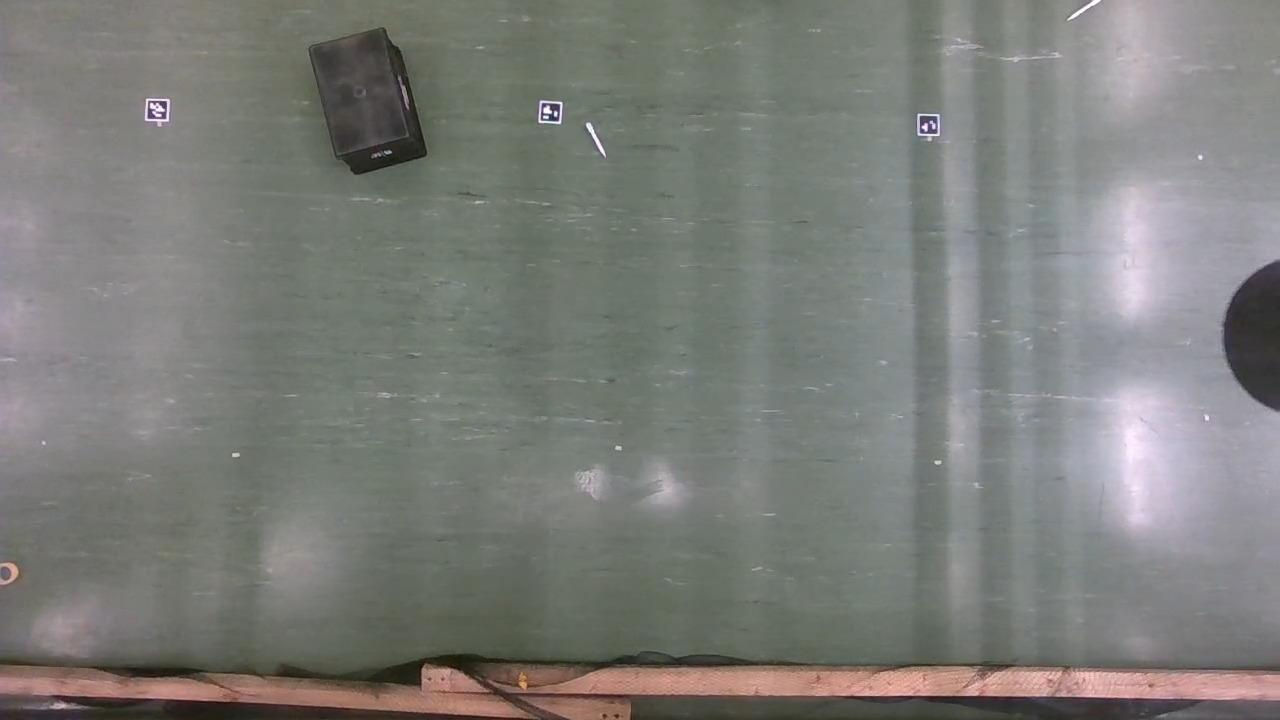probes: (1071, 0, 1099, 20), (590, 124, 604, 157)
rako: (309, 29, 427, 178)
